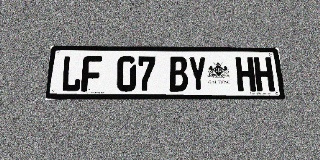0: (116, 56, 136, 92)
7: (136, 56, 156, 92)
B: (169, 56, 188, 92)
F: (81, 56, 102, 92)
H: (253, 57, 275, 92), (235, 57, 256, 92)
L: (60, 55, 82, 92)
Y: (188, 57, 208, 92)
